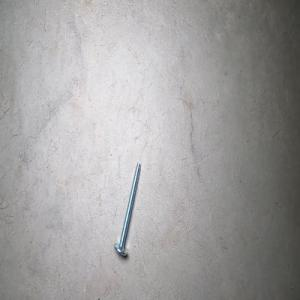Bolt: (113, 160, 141, 256)
